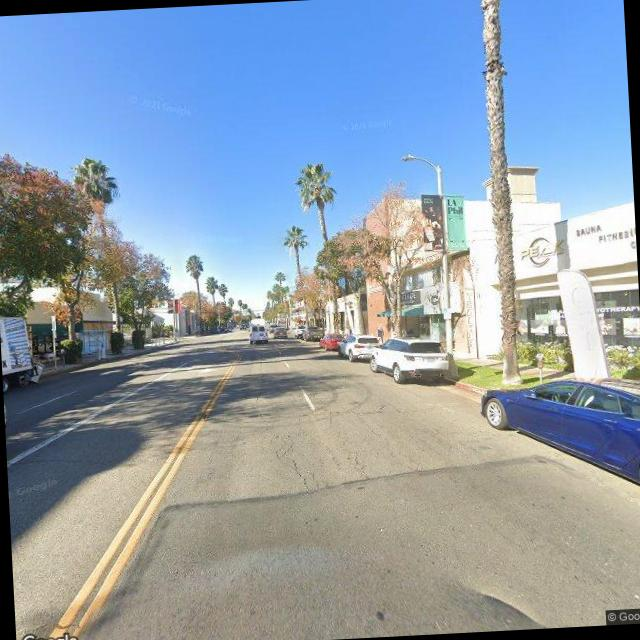crack: (253, 386, 406, 494)
